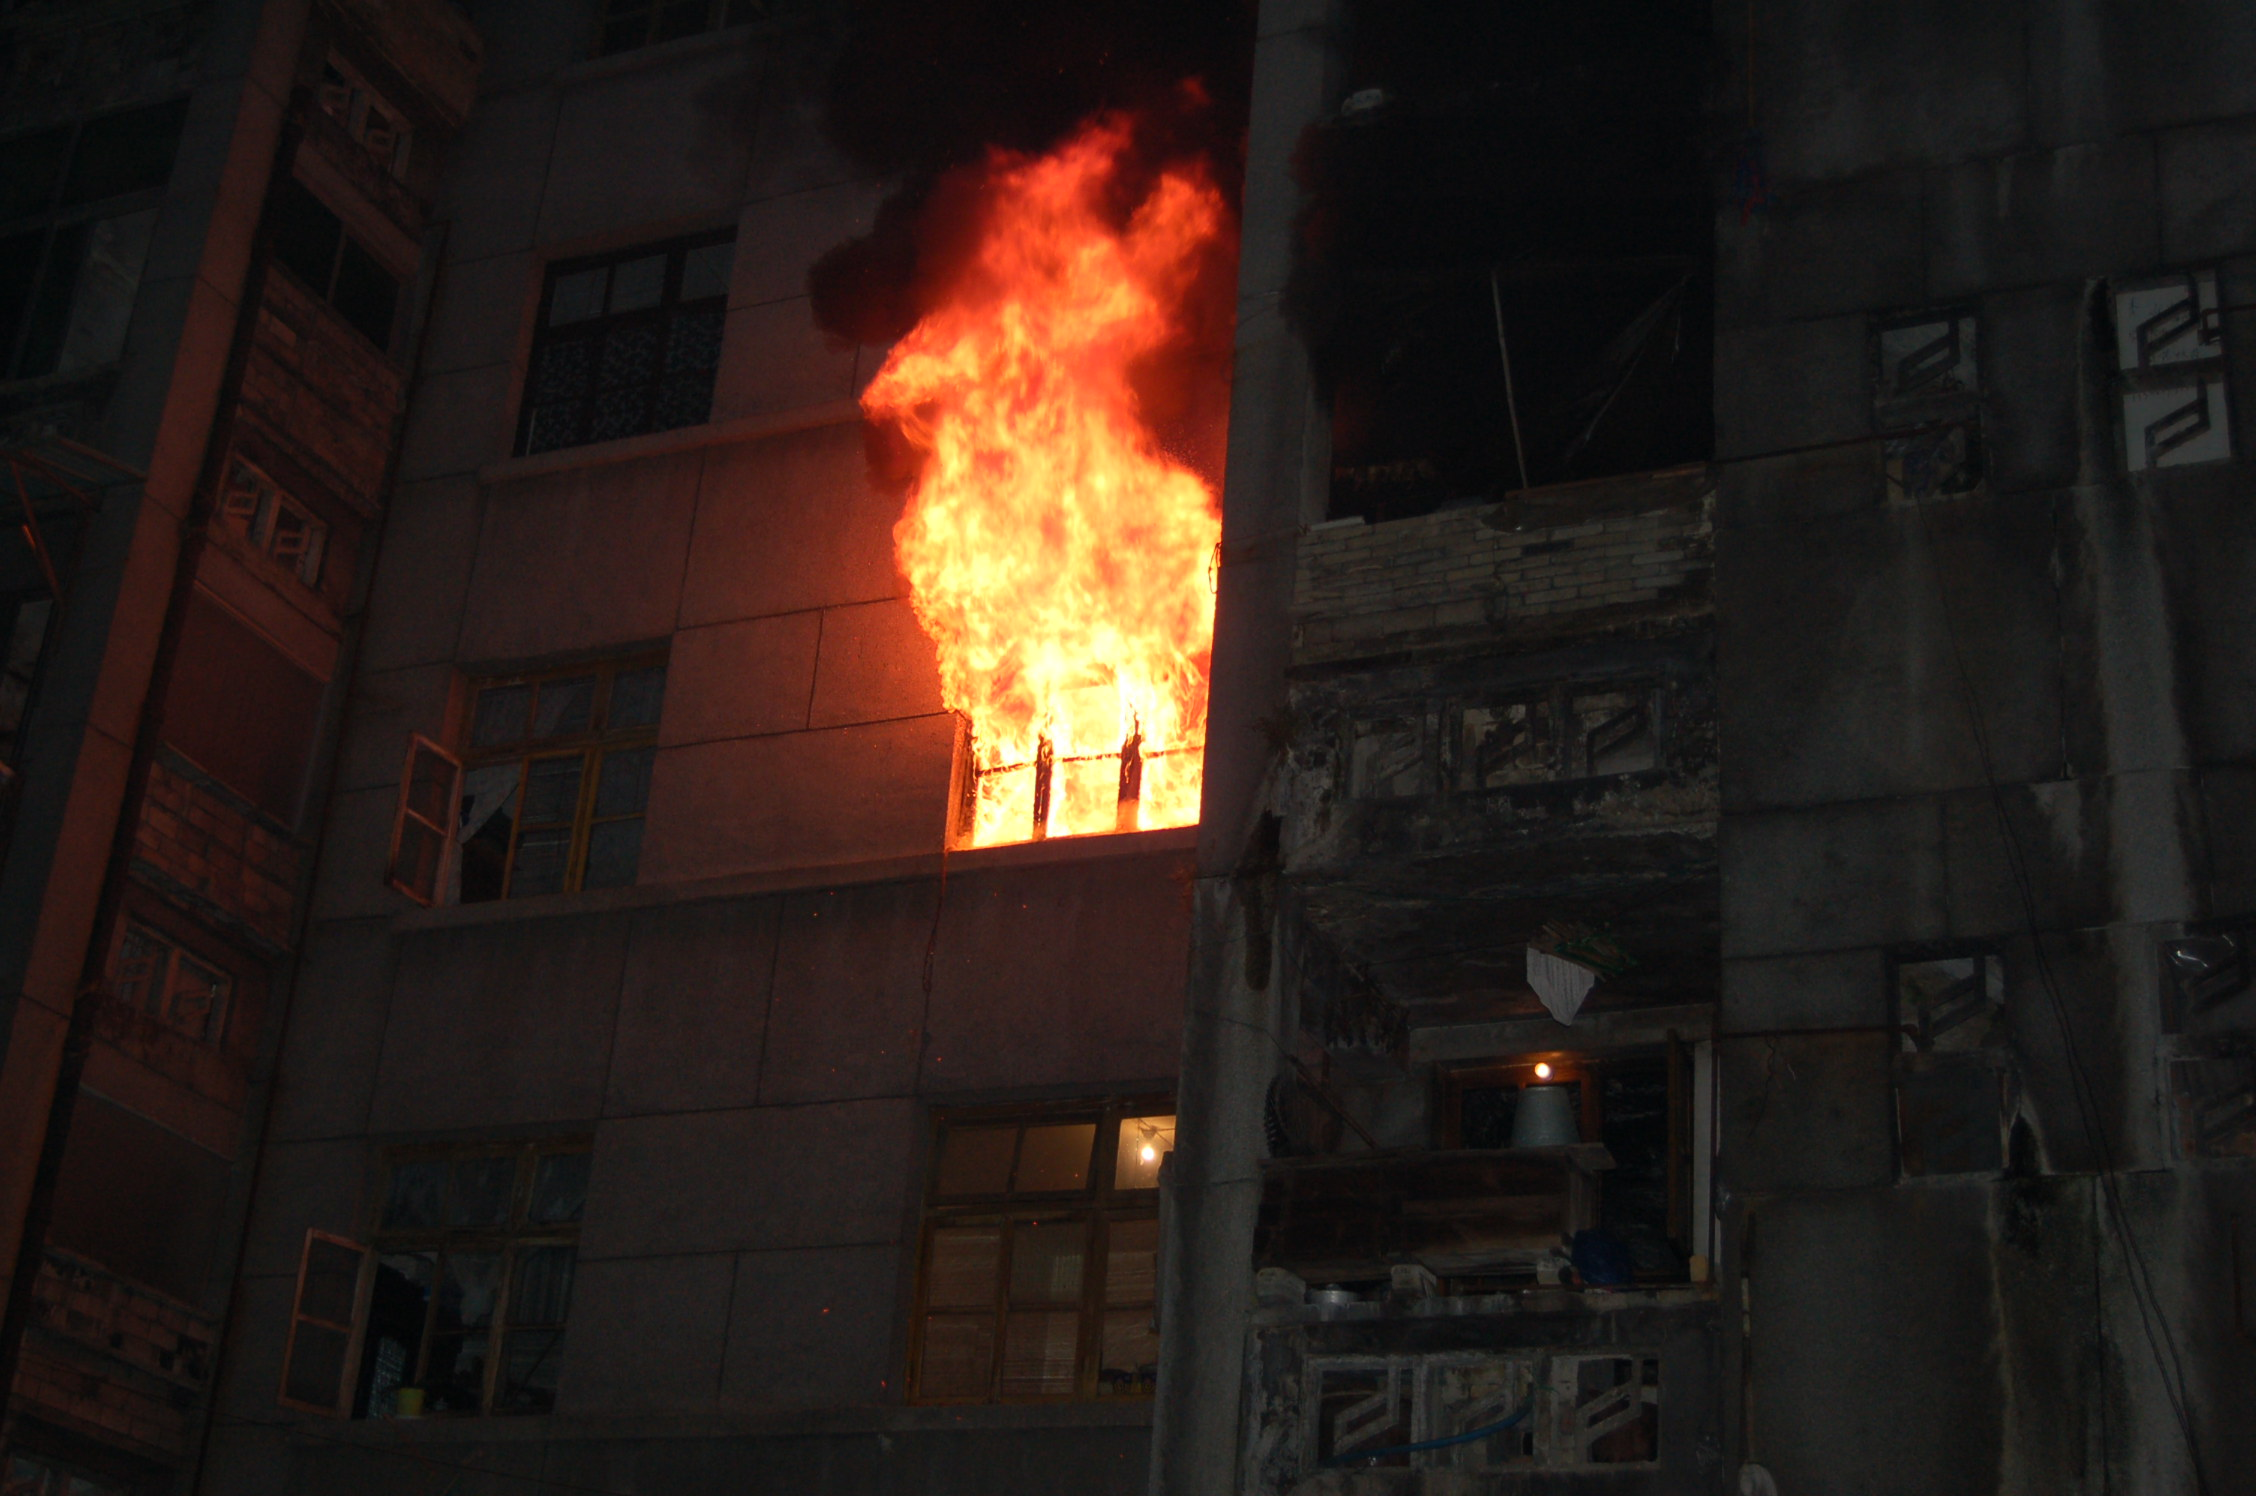fire: (817, 95, 1236, 783)
